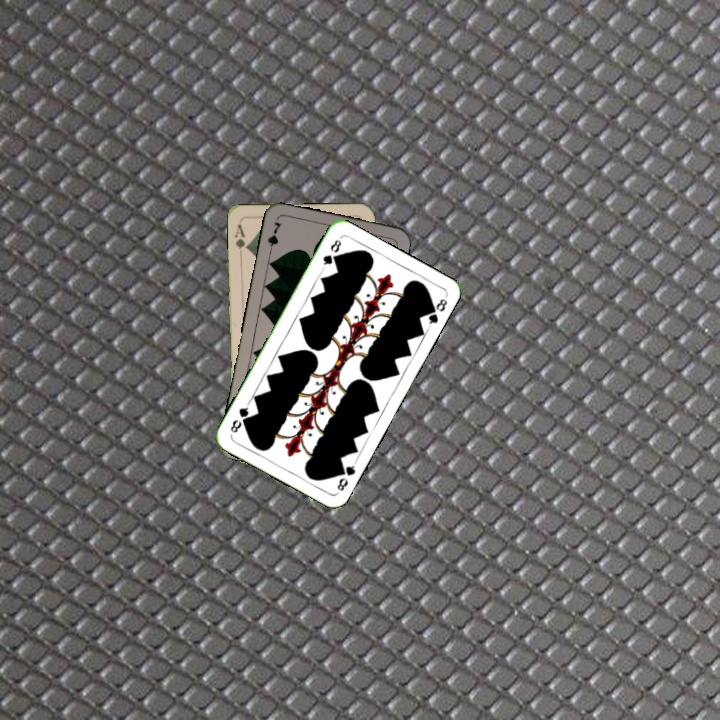G7: (263, 218, 284, 258)
G8: (333, 458, 359, 495), (319, 235, 344, 271)
GA: (231, 220, 250, 260)
